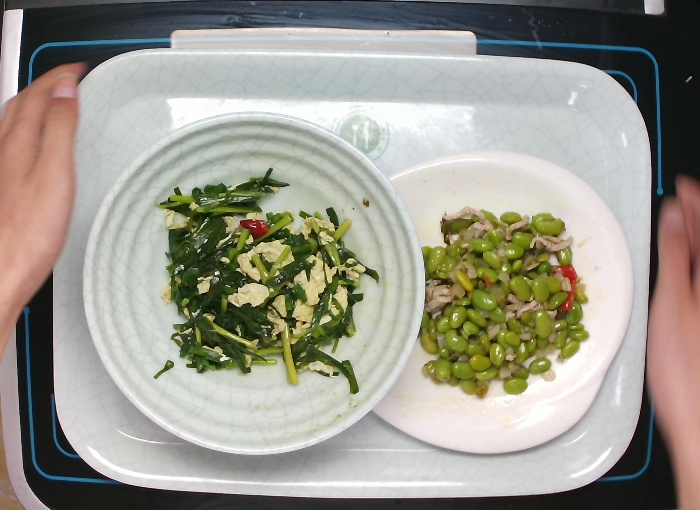JYsf-Da_Tang_Wan: (77, 107, 429, 459)
JYsf-Mian_Pan: (365, 146, 637, 457)
